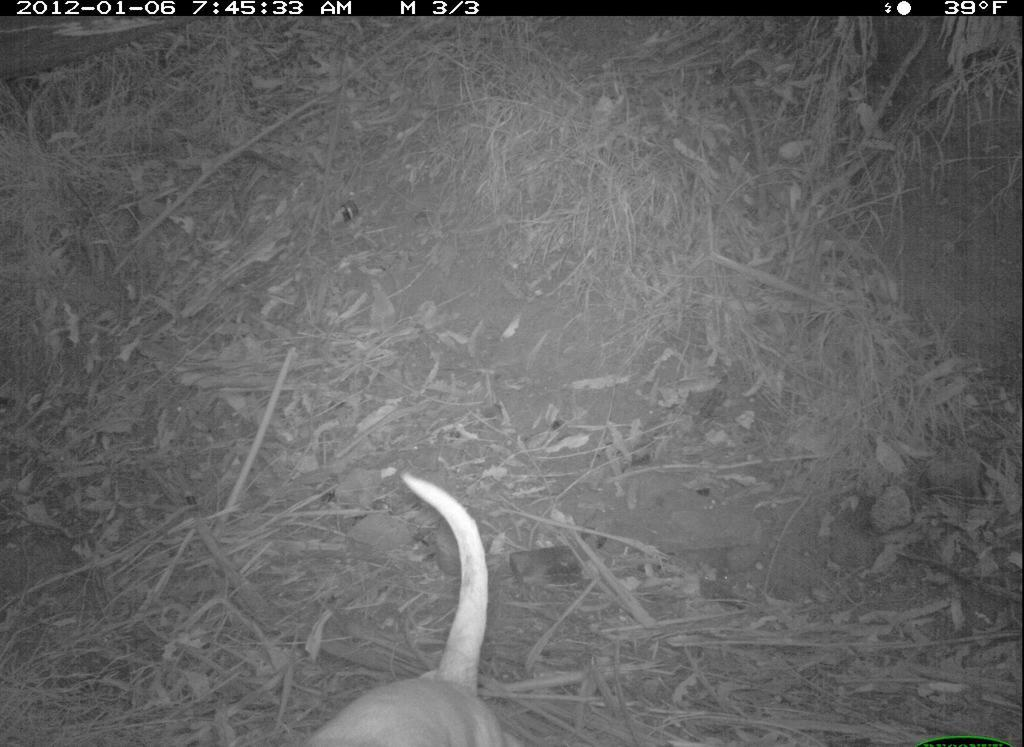dog: (276, 469, 529, 747)
